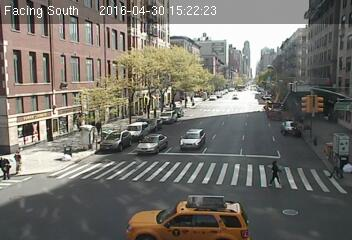neg: (287, 58, 310, 90), (242, 173, 260, 196), (173, 142, 190, 165), (130, 165, 145, 185), (256, 30, 270, 49), (268, 124, 282, 142), (50, 34, 64, 51), (212, 179, 224, 196), (234, 97, 246, 112), (121, 17, 133, 32), (174, 185, 185, 200), (211, 95, 220, 107), (207, 122, 215, 132)
pos: (324, 151, 346, 181), (6, 145, 27, 173), (264, 160, 283, 186), (92, 119, 104, 135)
